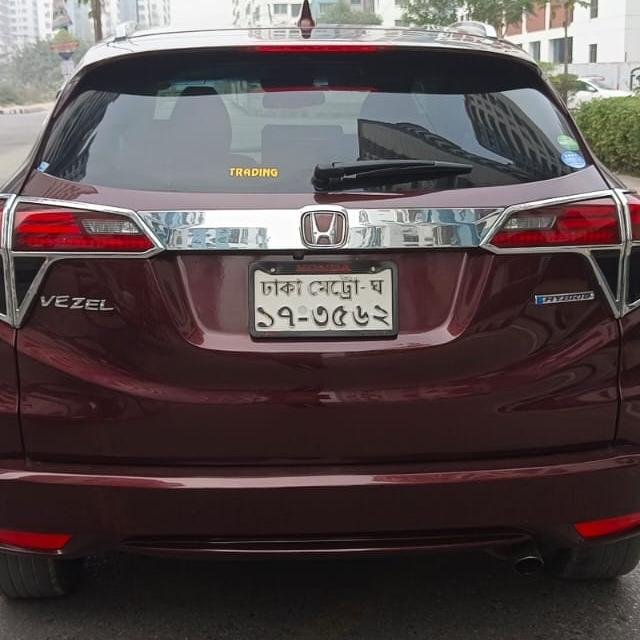Number-Plate: (250, 260, 400, 336)
